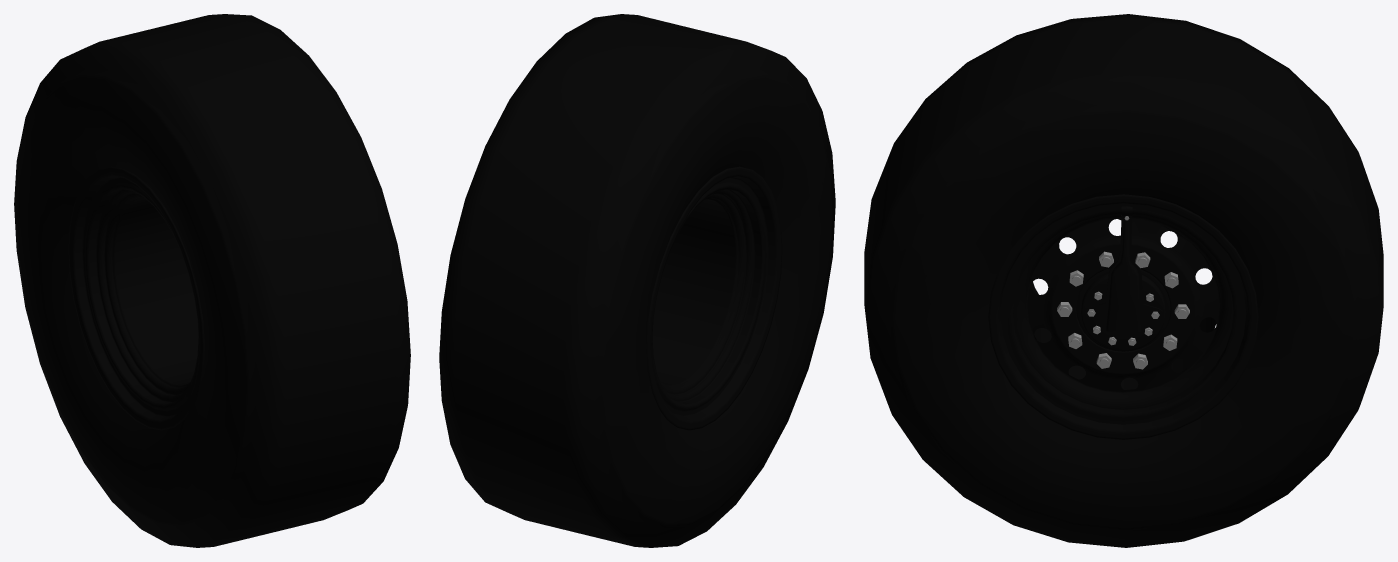
The model's file is wheel.gltf.
The picture shows the model from 3 angles, left to right: view 1: azimuth 30°, elevation 25°; view 2: azimuth 150°, elevation 25°; view 3: azimuth 270°, elevation 25°; orthographic projection.
Parts seen in each view (by area): view 1: Object_2; view 2: Object_2; view 3: Object_2.
Boxes of the visible parts, x1,y1,x2,y2 form: Object_2: (14,14,410,547); Object_2: (439,14,835,547); Object_2: (864,14,1383,547).
Size of the model in its own units: 1.05 by 2.67 by 2.67.
Materials: 1 (1 with a texture image).
